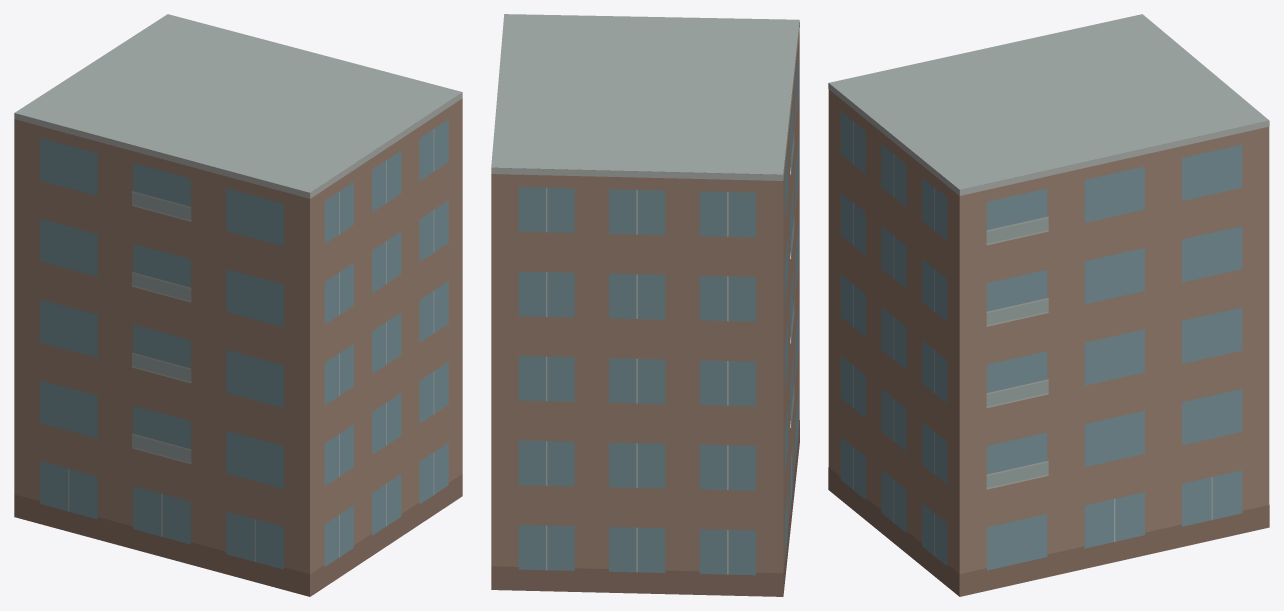
The model's file is survey-upis-32822718.glb.
The picture shows the model from 3 angles, left to right: view 1: azimuth 30°, elevation 25°; view 2: azimuth 150°, elevation 25°; view 3: azimuth 270°, elevation 25°; orthographic projection. The views are drawn at different scales.
Visible parts, largest first — view 1: survey-upis-32822718.tmp; view 2: survey-upis-32822718.tmp; view 3: survey-upis-32822718.tmp.
Boxes of the visible parts, left/top/right/bottom form: survey-upis-32822718.tmp: left=14, top=14, right=462, bottom=596; survey-upis-32822718.tmp: left=491, top=14, right=799, bottom=596; survey-upis-32822718.tmp: left=828, top=14, right=1269, bottom=596.
Size of the model in its own units: 14.93 by 16.1 by 15.82.
